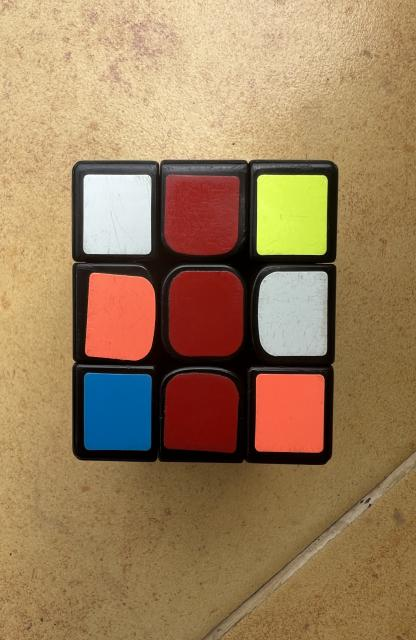Blue: (83, 372, 152, 451)
Orange: (86, 272, 155, 360), (255, 374, 325, 452)
Red: (169, 271, 244, 356), (164, 372, 239, 452), (165, 175, 239, 255)
White: (258, 271, 328, 356), (83, 174, 152, 255)
Yellow: (257, 175, 328, 255)
